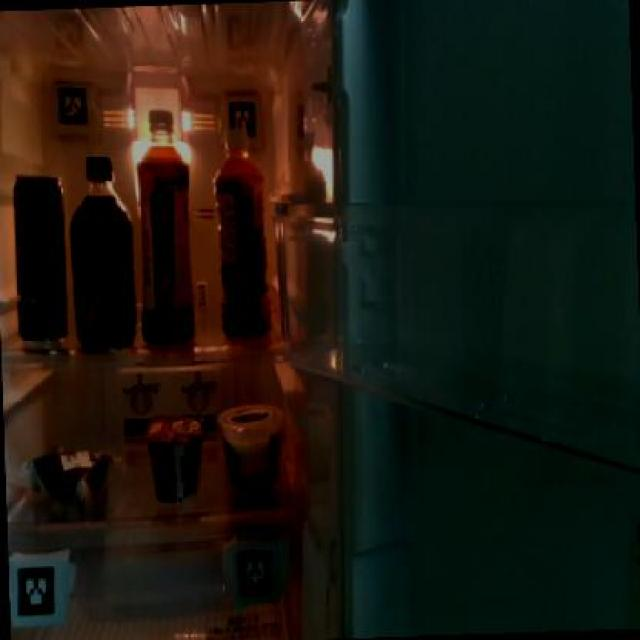coffee: (68, 149, 140, 348)
energy_drink: (11, 172, 69, 350)
pudding: (218, 400, 284, 491)
rice_ball: (26, 440, 114, 512)
tea_a: (209, 138, 274, 344)
tea_i: (132, 101, 196, 344)
yogurt: (144, 415, 205, 508)
